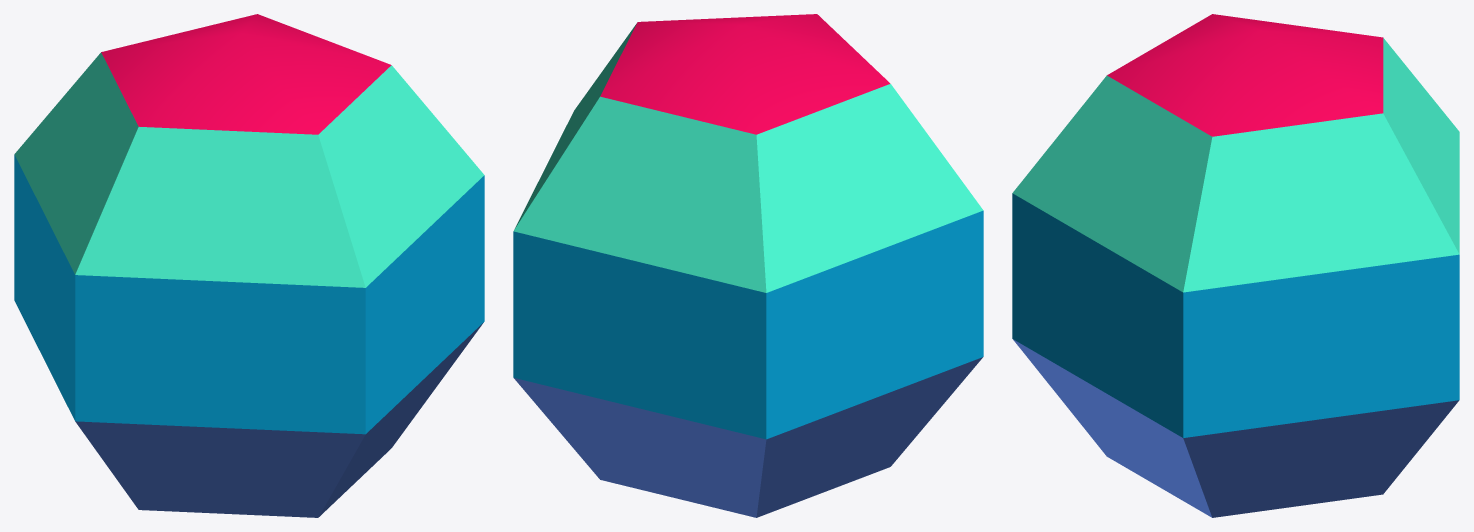
File: modelo_demo.glb
3 views of the same model, side by side, from view 1: azimuth 30°, elevation 25°; view 2: azimuth 150°, elevation 25°; view 3: azimuth 270°, elevation 25° (orthographic).
Parts seen in each view (by area): view 1: pieza_03, pieza_02, pieza_04, pieza_01; view 2: pieza_03, pieza_02, pieza_04, pieza_01; view 3: pieza_02, pieza_03, pieza_04, pieza_01.
Boxes of the visible parts, left/top/right/bottom form: pieza_03: left=14, top=154, right=484, bottom=434; pieza_02: left=14, top=52, right=484, bottom=287; pieza_04: left=75, top=322, right=483, bottom=517; pieza_01: left=101, top=14, right=391, bottom=134; pieza_03: left=513, top=210, right=983, bottom=439; pieza_02: left=514, top=23, right=983, bottom=292; pieza_04: left=514, top=357, right=982, bottom=517; pieza_01: left=600, top=14, right=890, bottom=134; pieza_02: left=1012, top=38, right=1459, bottom=292; pieza_03: left=1012, top=193, right=1459, bottom=437; pieza_04: left=1013, top=339, right=1458, bottom=517; pieza_01: left=1107, top=14, right=1383, bottom=136.
Size of the model in its own units: 0.000906 by 0.001 by 0.000862.
